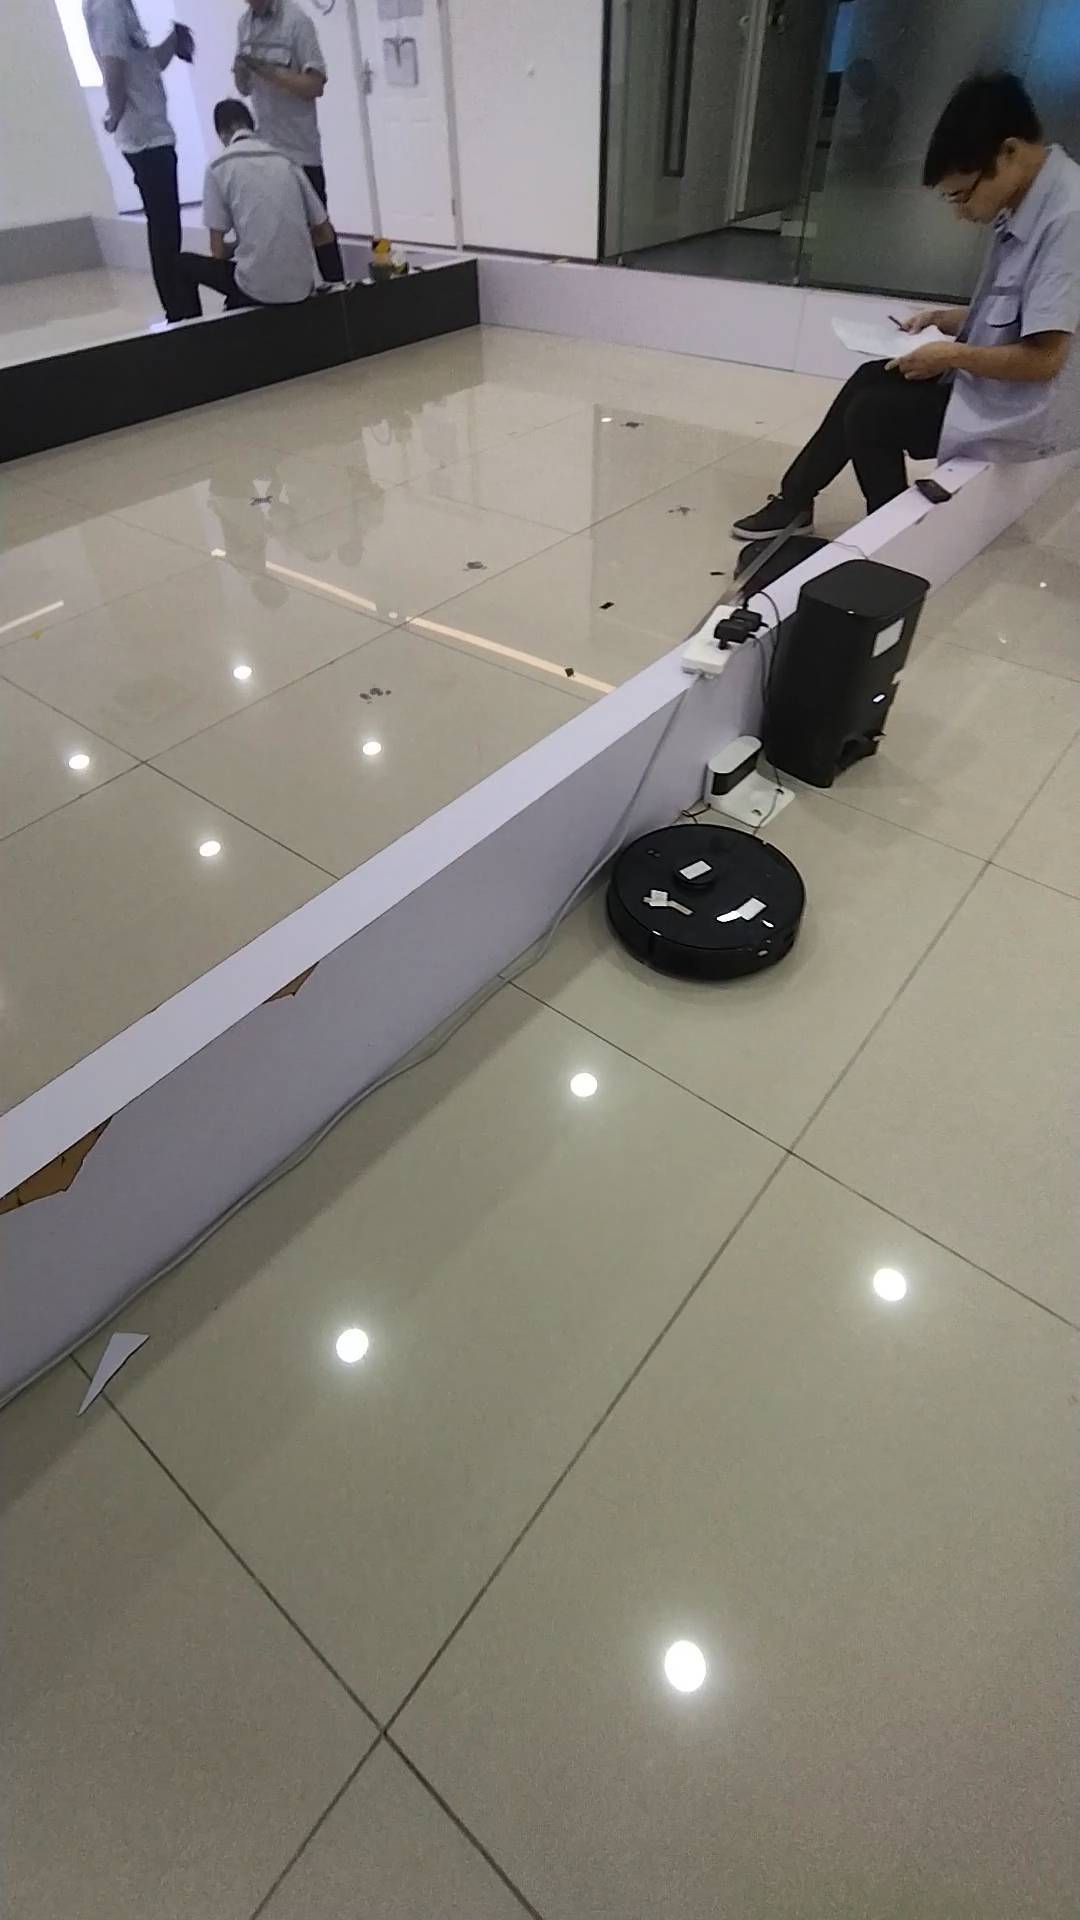dust collecting barrel: (766, 558, 931, 791)
recharge seat: (700, 732, 796, 828)
